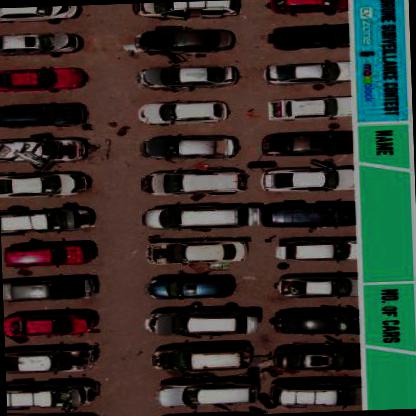car: (7, 377, 99, 413), (0, 134, 91, 170), (146, 308, 254, 338), (148, 201, 260, 229), (142, 168, 248, 196), (2, 202, 96, 233), (6, 344, 94, 377), (136, 64, 239, 92), (0, 168, 90, 200), (151, 346, 254, 373), (3, 238, 95, 268), (147, 238, 248, 265), (136, 98, 232, 126), (0, 65, 88, 95), (138, 26, 235, 53), (0, 102, 86, 132), (3, 276, 98, 303), (130, 0, 241, 23), (5, 310, 93, 339), (136, 134, 234, 160), (156, 380, 256, 405), (265, 200, 357, 227), (145, 273, 236, 299), (260, 166, 354, 191), (0, 29, 80, 58), (268, 22, 350, 50), (264, 130, 352, 156), (271, 381, 359, 407), (274, 308, 352, 334), (270, 348, 354, 371), (265, 61, 344, 85), (278, 274, 354, 298), (276, 240, 354, 262), (0, 5, 83, 25), (270, 98, 341, 120), (270, 0, 350, 15)
